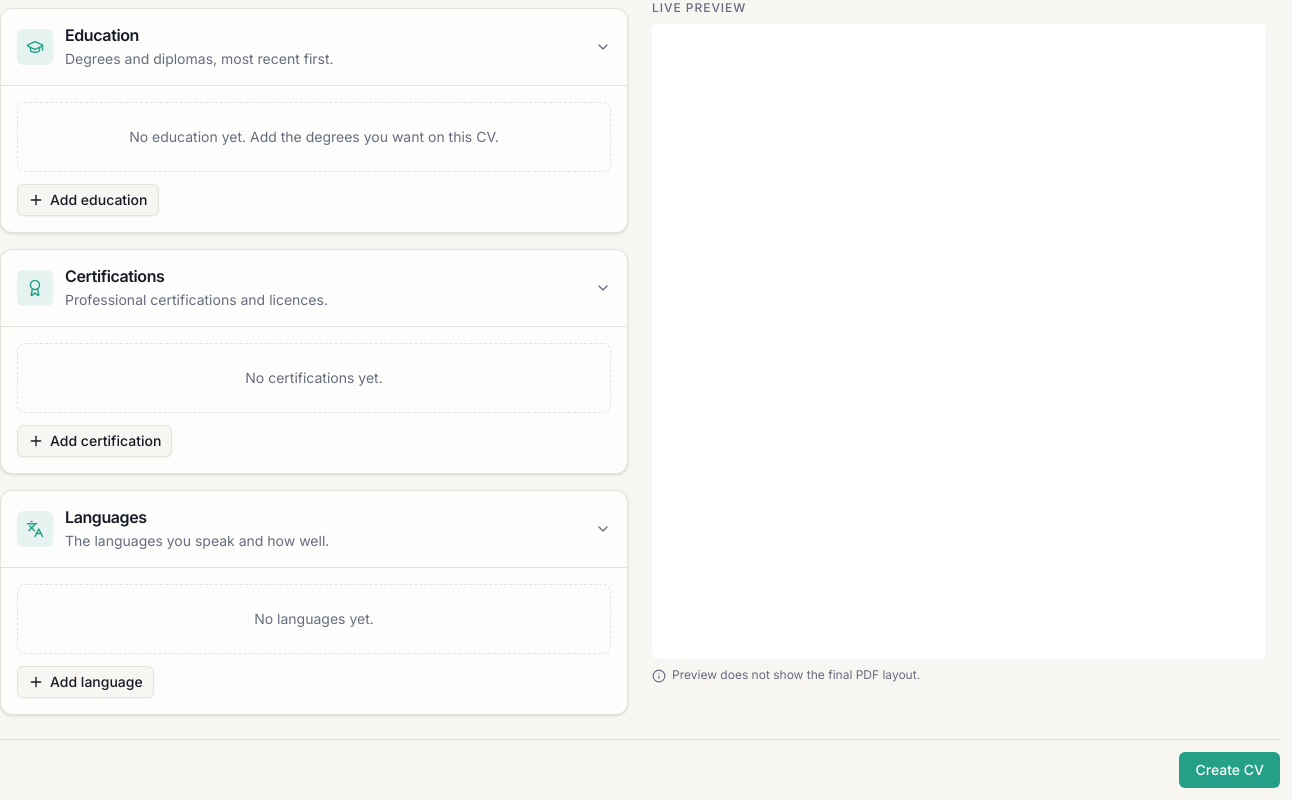
Test: BaseCvEditor › lists the language levels in English, word for word
(page scrolled)
Step 1. Click the button "Add language" → (85, 682), box [17, 666, 154, 698]
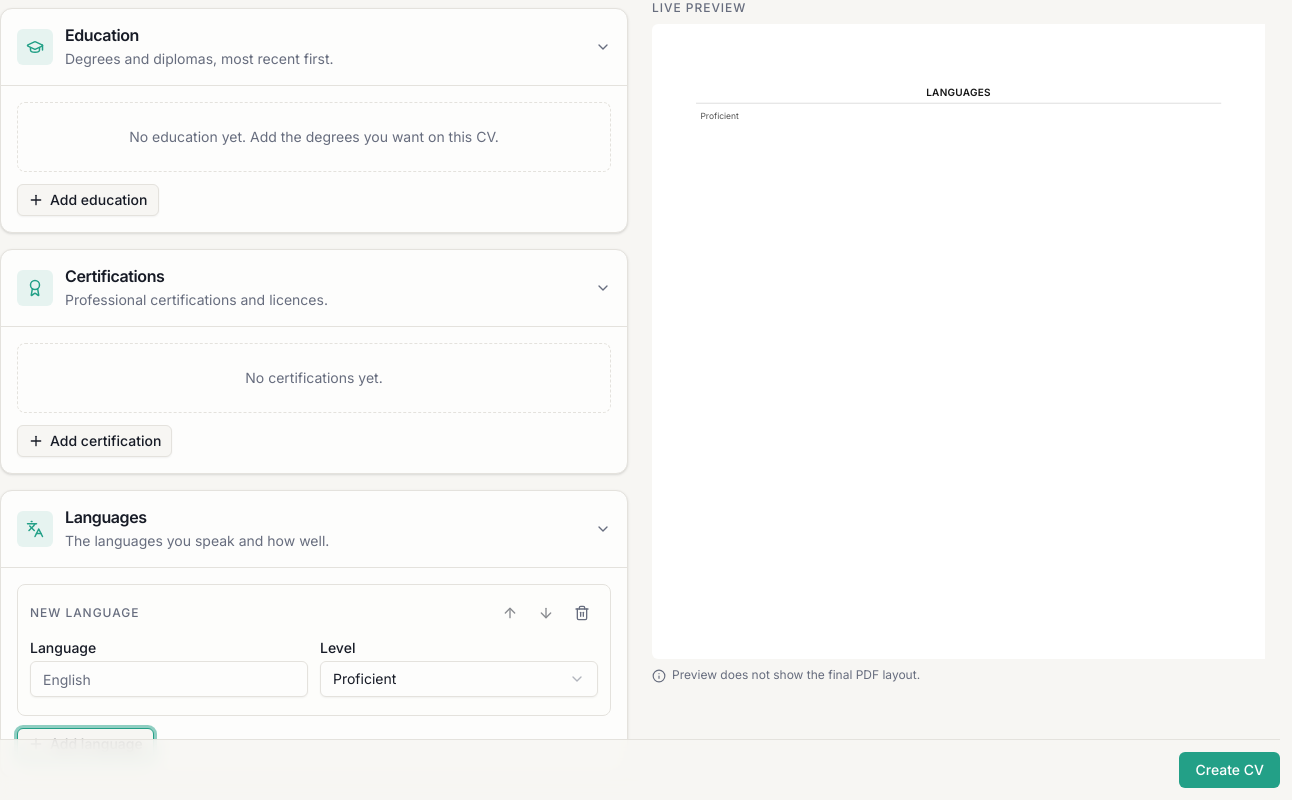
Step 2. Click the dropdown named "Level" → (365, 678), box [320, 661, 598, 697]
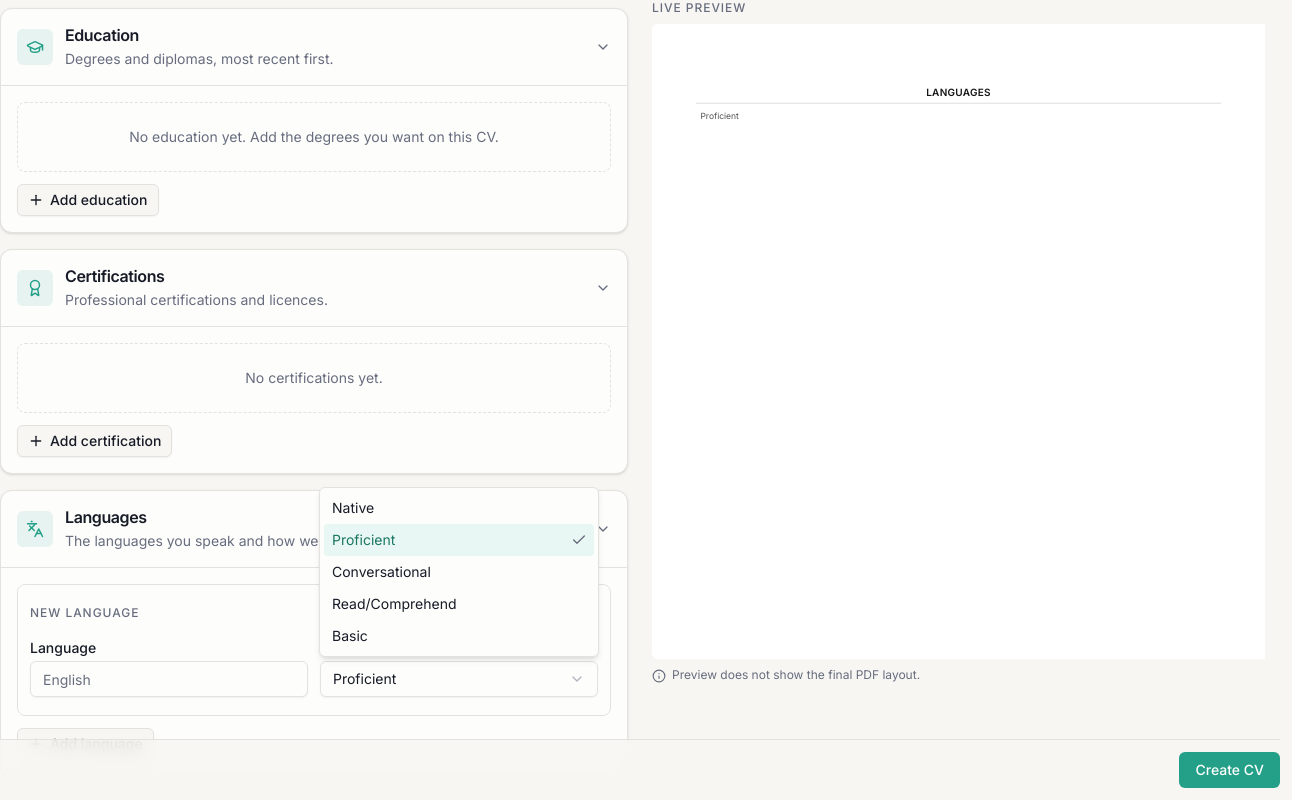
Now the options read "Native", "Proficient", "Conversational", "Read/Comprehend", "Basic", in this order, box [332, 499, 374, 516]; [324, 524, 594, 556]; [332, 563, 431, 580]; [332, 595, 456, 612]; [332, 627, 368, 644]
